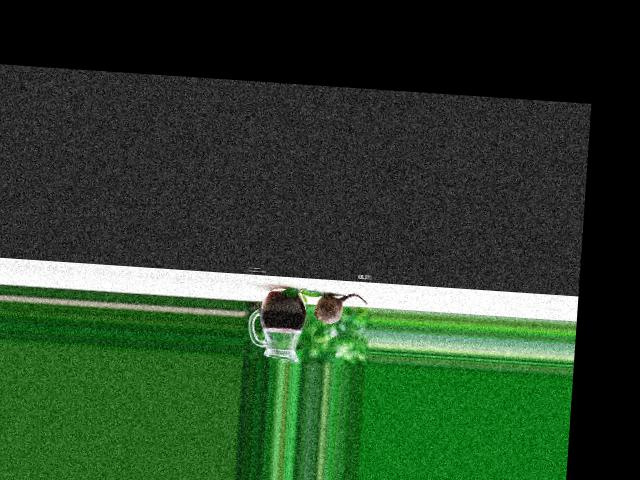beet: (313, 290, 367, 325)
